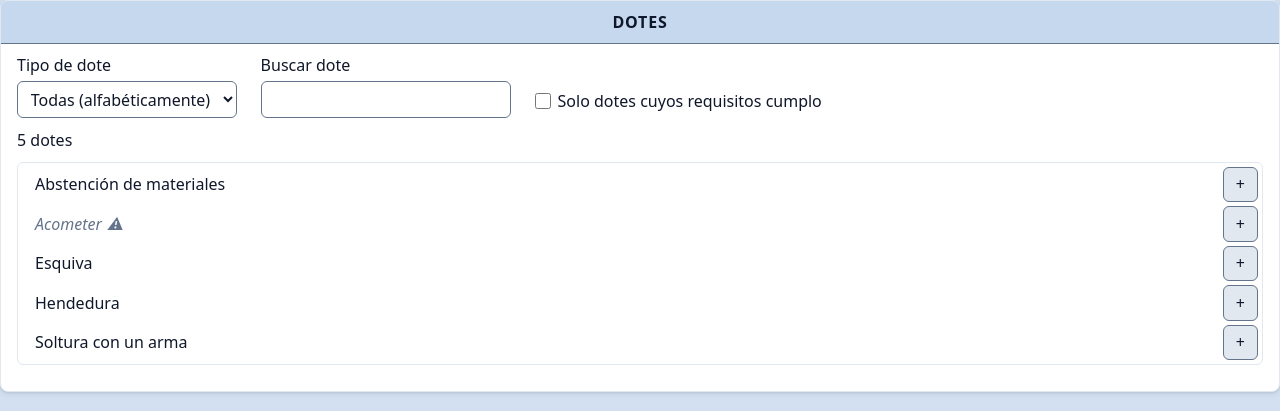
Test case: FeatsSection › searches by name, ignoring accents
The width and height of the screenshot is (1280, 411).
Expected: the list named "Añadir dote" is shown, [17,162,1263,366]
Type "abstencion" into the search field labelled "Buscar dote".
click(386, 100); type("abstencion")  # box [261,81,511,118]
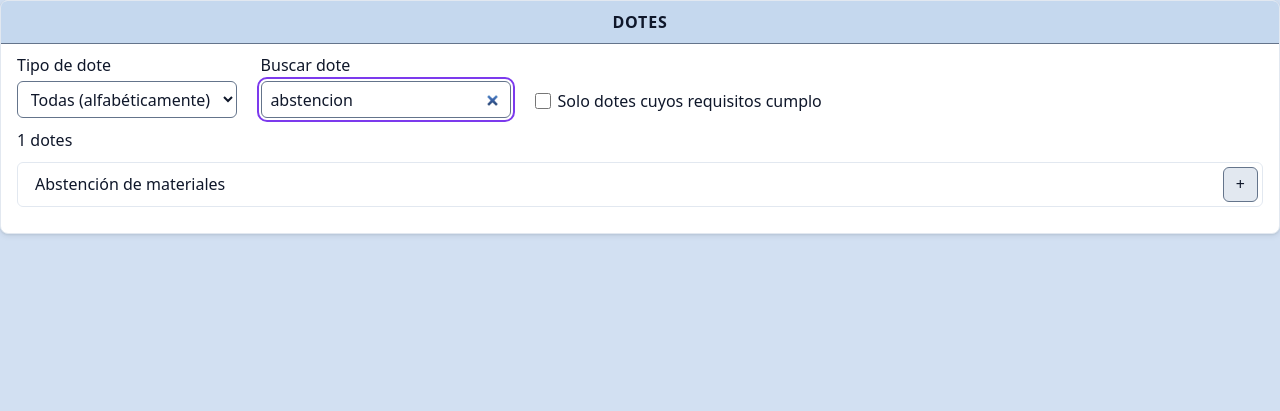
Expected: the buttons "Ver detalles de" read "Abstención de materiales", in this order, [22,167,1215,202]
